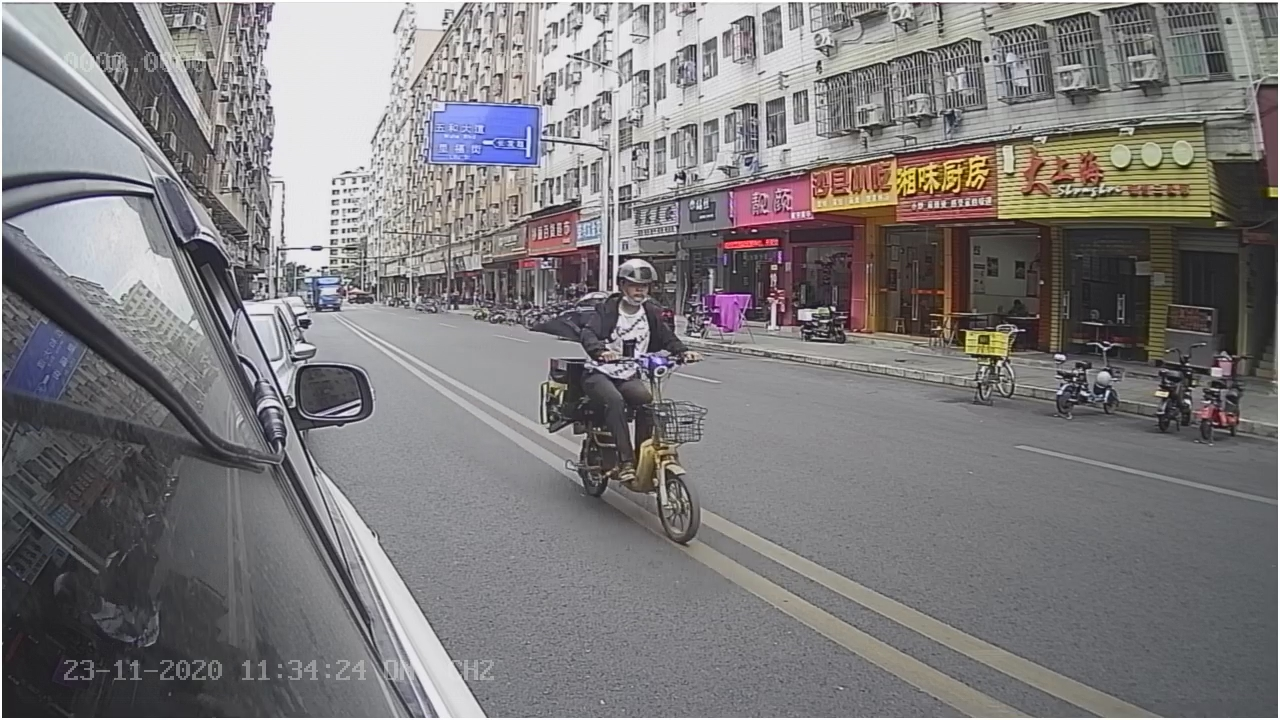person: (584, 256, 675, 357)
